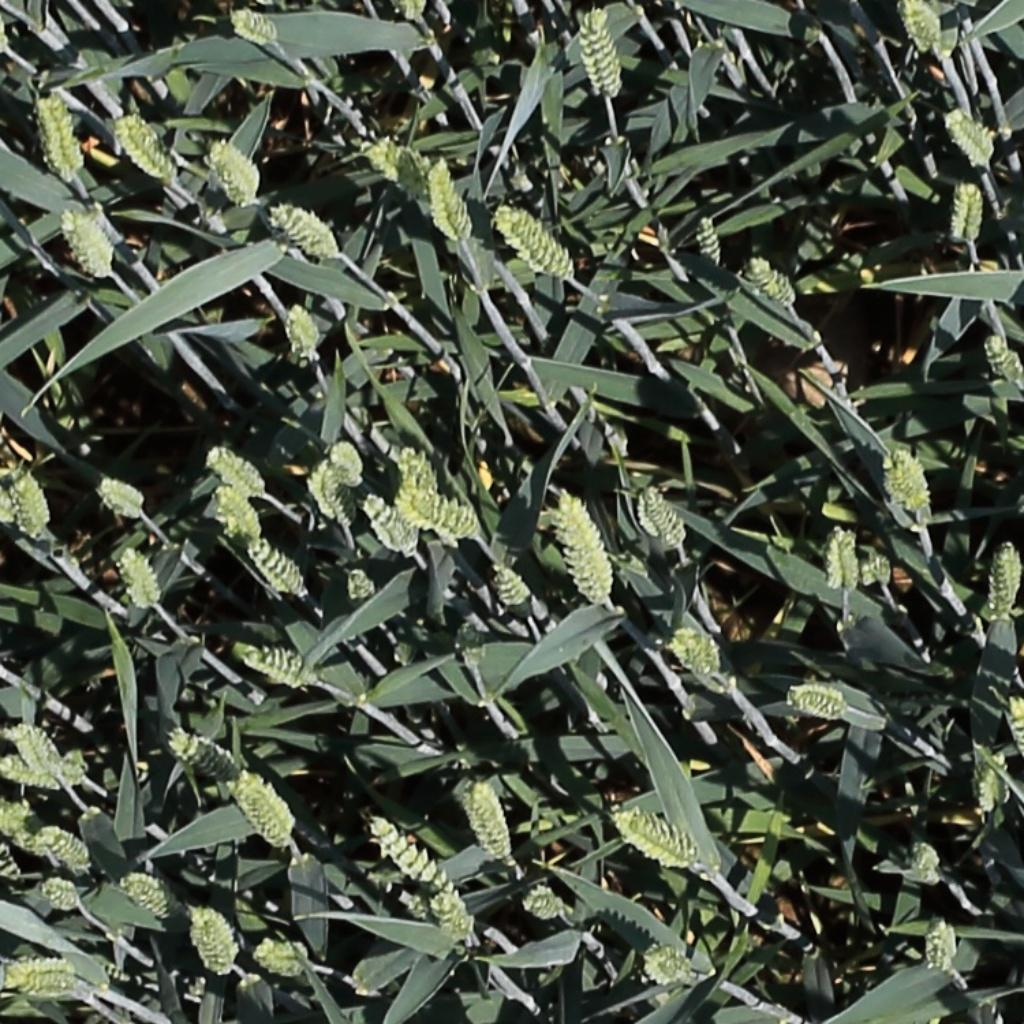0-0: (365, 815, 471, 916), (557, 488, 614, 608), (498, 204, 576, 279), (232, 771, 293, 854), (55, 202, 117, 281), (113, 110, 180, 181), (613, 816, 699, 869), (204, 132, 262, 207), (875, 437, 933, 512), (464, 780, 514, 866), (268, 200, 341, 258), (35, 87, 80, 181), (243, 535, 308, 599), (360, 490, 419, 558), (364, 133, 433, 190), (640, 479, 692, 554), (402, 487, 481, 536), (431, 151, 472, 244), (167, 733, 243, 783), (6, 945, 83, 994), (188, 901, 236, 978), (211, 480, 266, 543), (943, 103, 995, 169), (584, 5, 619, 102), (116, 542, 162, 615), (309, 457, 352, 533), (746, 251, 802, 309), (204, 447, 267, 498), (8, 461, 51, 535), (488, 555, 536, 617), (671, 628, 724, 684), (241, 649, 320, 686), (981, 329, 1024, 393), (6, 722, 57, 775), (0, 794, 44, 854), (430, 888, 477, 944), (45, 822, 103, 866), (120, 877, 178, 921), (825, 522, 858, 598), (283, 296, 322, 359), (991, 539, 1018, 629), (977, 746, 1008, 823), (327, 435, 367, 490), (903, 0, 942, 55), (0, 760, 72, 789), (696, 206, 726, 273), (954, 173, 981, 247), (927, 914, 958, 977), (516, 886, 565, 923), (859, 546, 900, 590), (95, 480, 147, 513), (791, 690, 851, 718), (909, 838, 943, 886), (230, 10, 279, 43), (1004, 690, 1024, 770), (252, 946, 305, 976), (644, 954, 696, 984), (346, 563, 375, 611), (39, 884, 80, 910), (0, 468, 17, 524), (398, 1, 428, 30)
